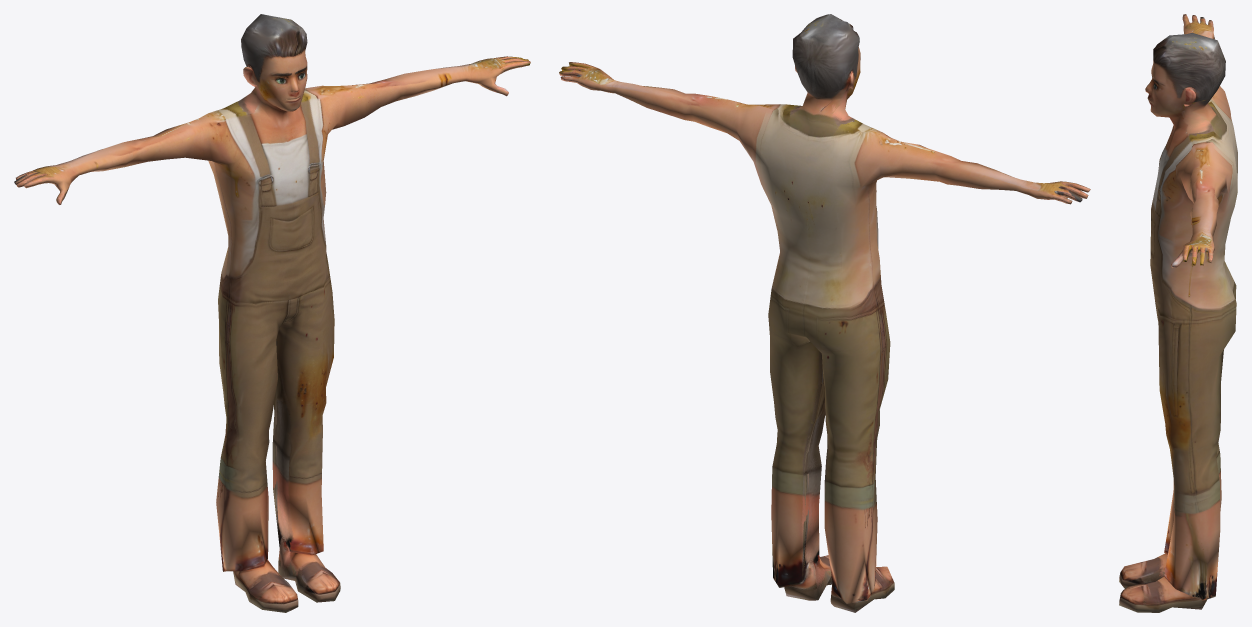
Rendered from _0803044100_texture.fbx.
The picture shows the model from 3 angles, left to right: view 1: azimuth 30°, elevation 25°; view 2: azimuth 150°, elevation 25°; view 3: azimuth 270°, elevation 25°; orthographic projection. The views are drawn at different scales.
Visible parts, largest first — view 1: SubMesh_0; view 2: SubMesh_0; view 3: SubMesh_0.
Boxes of the visible parts, left/top/right/bottom form: SubMesh_0: left=14, top=14, right=530, bottom=612; SubMesh_0: left=559, top=14, right=1090, bottom=612; SubMesh_0: left=1119, top=14, right=1237, bottom=612.
Bounding box in the file's own units: 190 × 200 × 38.53.
1 material, 1 textured.
